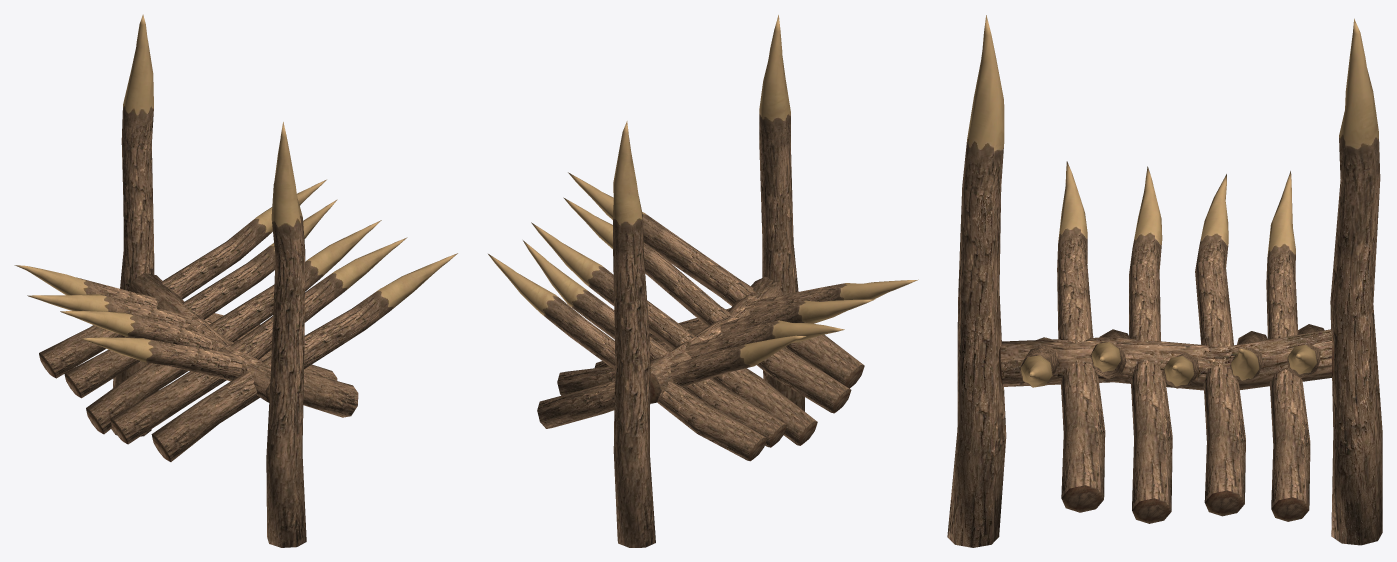
Rendered from Pr_Barricade.glb.
The picture shows the model from 3 angles, left to right: view 1: azimuth 30°, elevation 25°; view 2: azimuth 150°, elevation 25°; view 3: azimuth 270°, elevation 25°; orthographic projection. The views are drawn at different scales.
Parts seen in each view (by area): view 1: Pr_Barricade; view 2: Pr_Barricade; view 3: Pr_Barricade.
Boxes of the visible parts, x1,y1,x2,y2 form: Pr_Barricade: (14,14,457,547); Pr_Barricade: (488,15,918,547); Pr_Barricade: (947,15,1382,547).
Bounding box in the file's own units: 2.3 × 2.51 × 1.88.
Materials: 1 (1 with a texture image).
